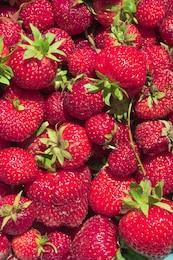Fresa: (116, 192, 173, 260), (7, 40, 59, 93), (53, 121, 101, 172), (64, 75, 107, 121), (9, 224, 44, 260), (82, 110, 116, 147)
